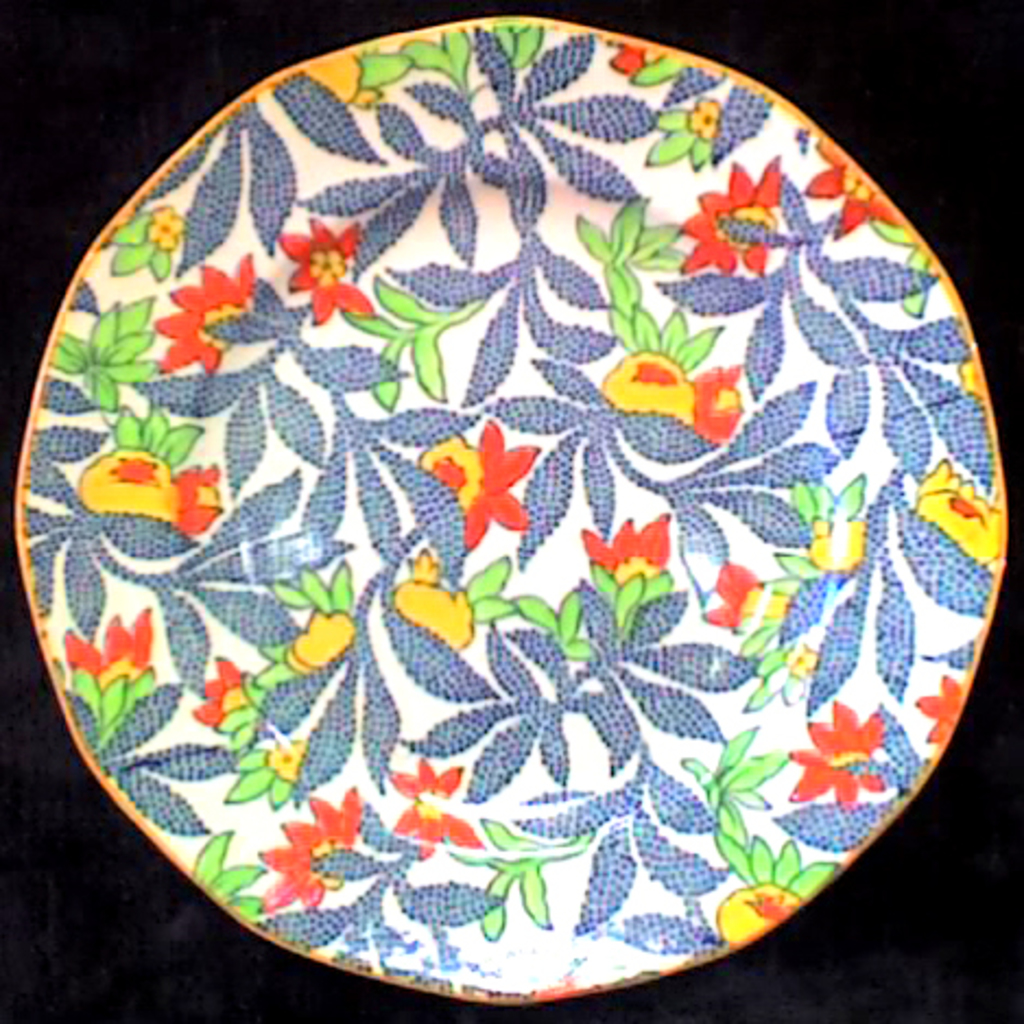plate: (41, 50, 991, 932)
